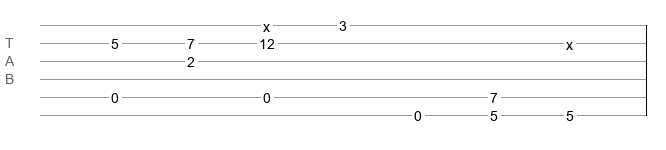0: (111, 90, 119, 100), (263, 90, 271, 100), (414, 108, 422, 118)
12: (259, 36, 275, 46)
2: (187, 54, 195, 64)
3: (339, 18, 347, 28)
5: (111, 36, 119, 46), (490, 108, 498, 118), (566, 108, 574, 118)
7: (187, 36, 195, 46), (490, 90, 498, 100)
x: (263, 19, 270, 27), (566, 37, 573, 45)
